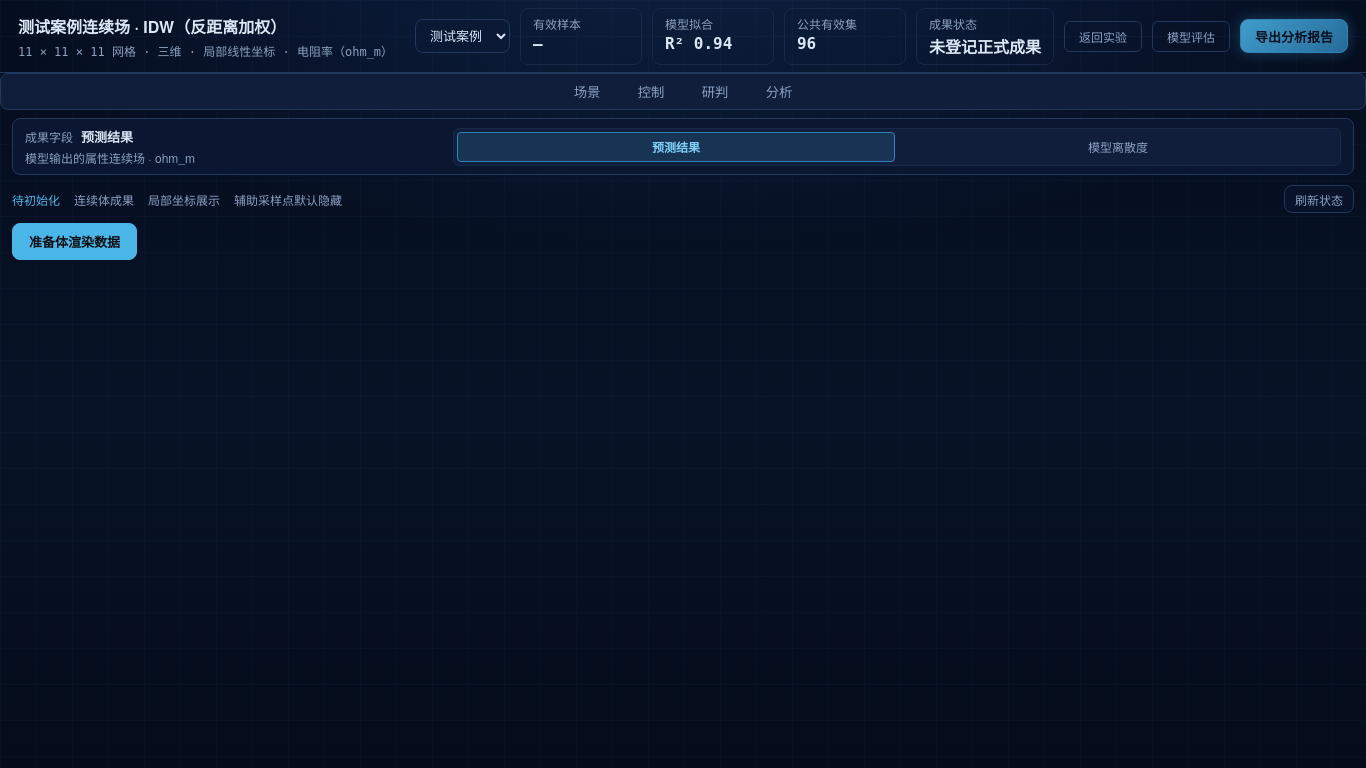
Test: 成果级分析接入 › ML 成果展示字段选择器，切换后所有渲染 API 携带字段且场景身份更新
The image size is (1366, 768).
Expected: the element with test id "ml-field-selector" is shown, [12,118,1354,175]
Click the tab with test id "ml-field-model_dispersion": [1118, 146] box [899,132,1337,162]
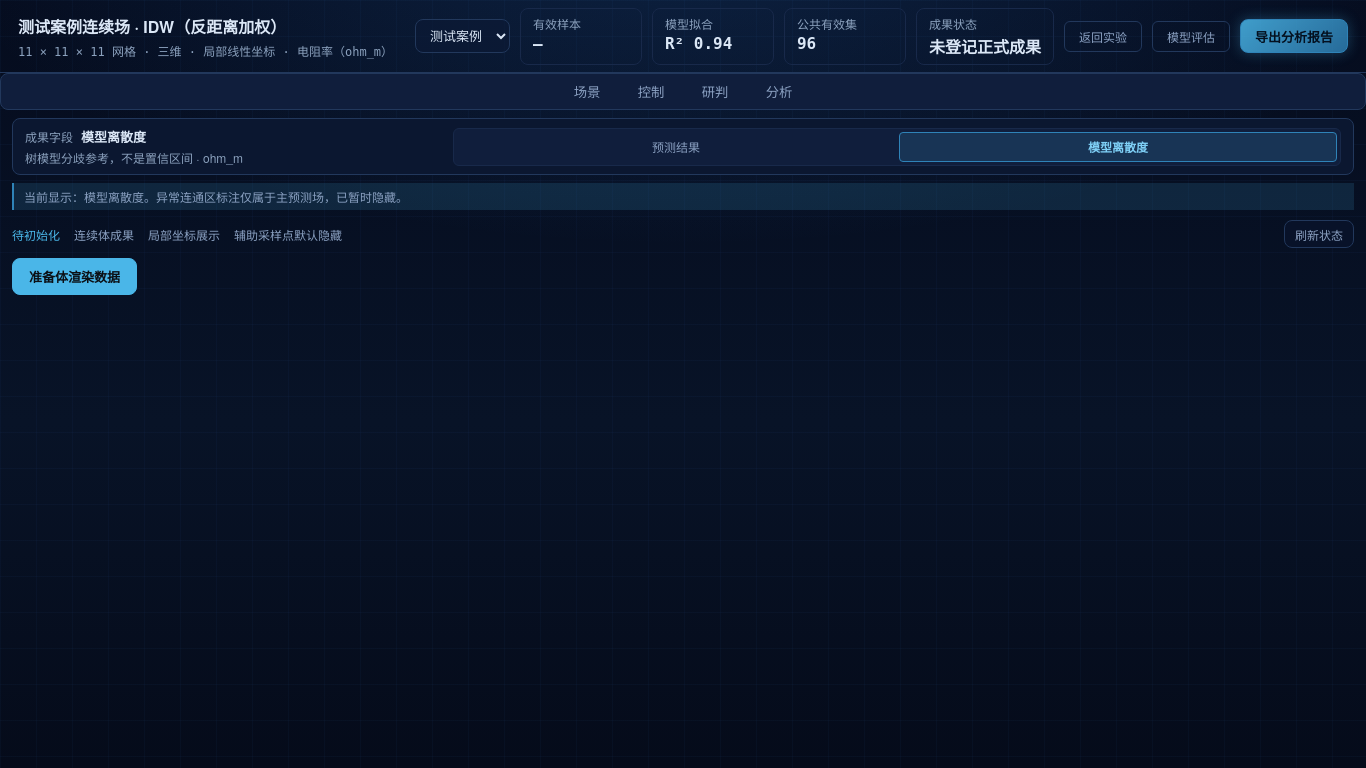
Now the text with test id "active-ml-field-note" shows "模型离散度", box [24,188,408,205]
